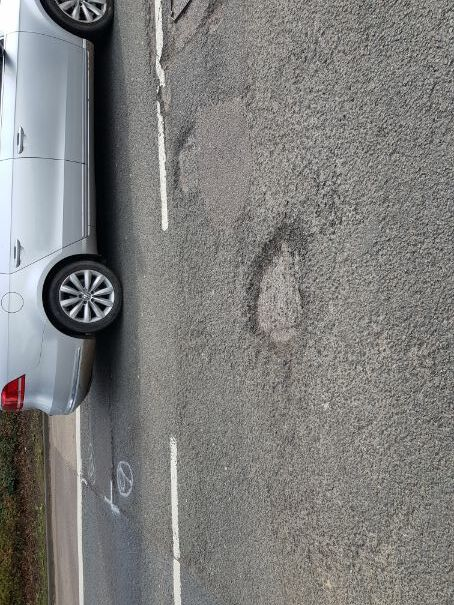pothole: (240, 216, 325, 354), (167, 117, 217, 201), (196, 1, 232, 31)
